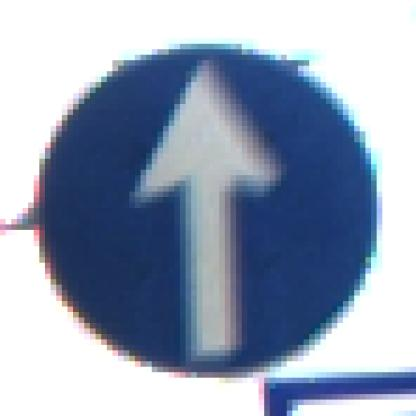AheadOnly: (35, 39, 383, 379)
